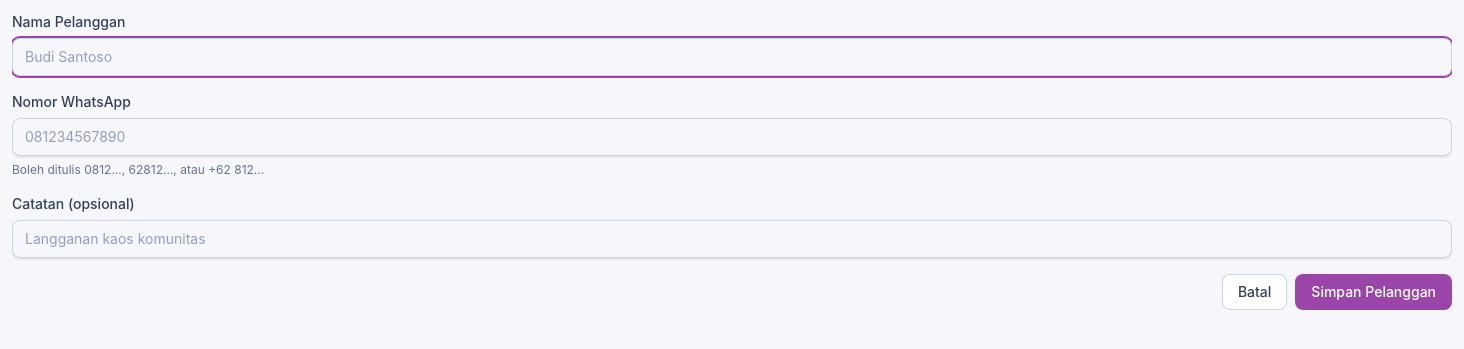
Test: CustomerForm — validasi › menghapus error setelah field diperbaiki
Click the button "Simpan Pelanggan" at (1374, 292), box [1295,274,1452,310]
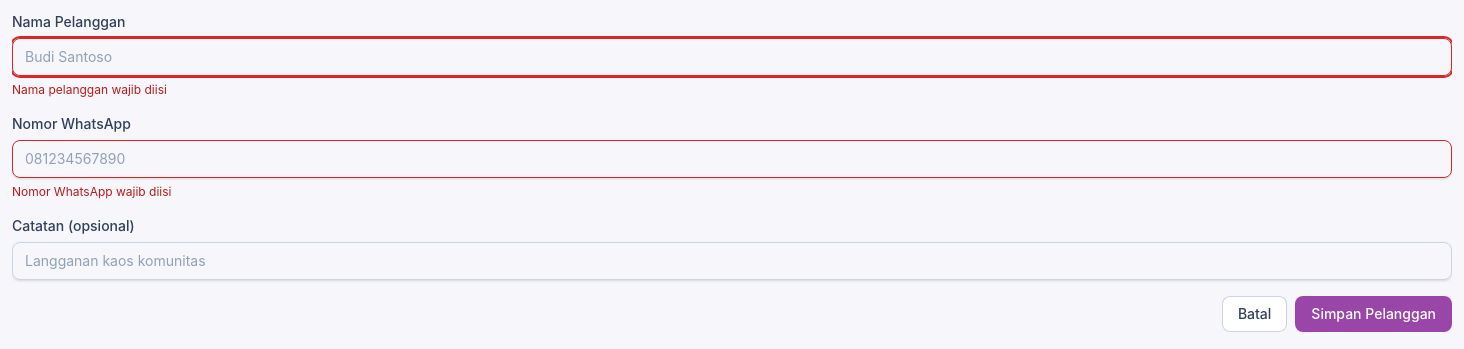
Now the text "Nama pelanggan wajib diisi" is shown, box [12,82,167,97]
Type "Dewi Lestari" into the field labelled "Nama Pelanggan" at (732, 57), box [12,38,1452,76]
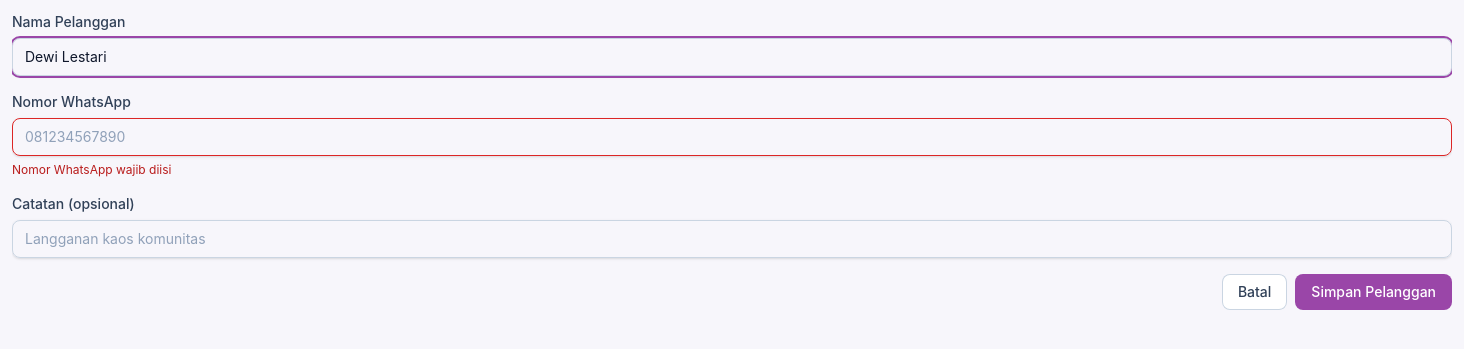
Now the text "Nama pelanggan wajib diisi" is gone
